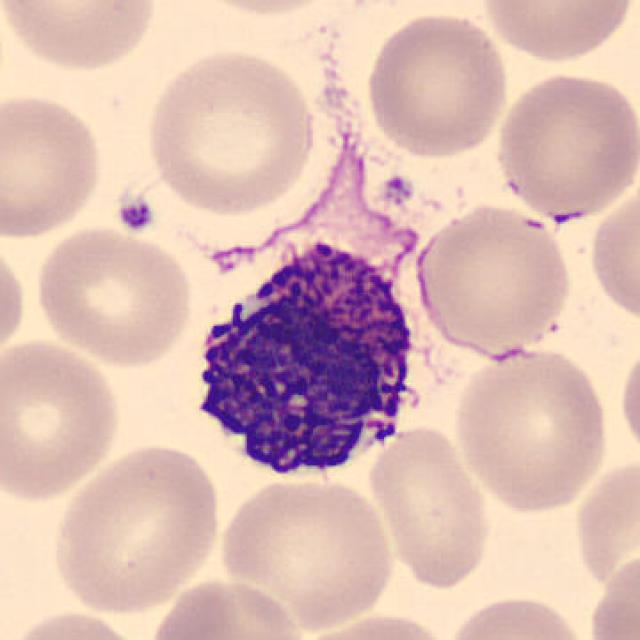Basophil: (176, 226, 453, 494)
Platelets: (114, 196, 158, 234)
RBC: (46, 439, 226, 617), (140, 44, 320, 217), (213, 473, 400, 631), (450, 342, 613, 515), (411, 199, 576, 356), (31, 222, 198, 369), (491, 67, 638, 224), (363, 9, 512, 160), (364, 420, 494, 590), (0, 335, 126, 504), (0, 88, 107, 242), (0, 0, 162, 74), (146, 575, 313, 640), (476, 0, 638, 65), (570, 453, 640, 597), (586, 174, 640, 329), (441, 590, 594, 640), (583, 546, 640, 640), (2, 606, 153, 640), (290, 610, 458, 640), (0, 235, 30, 363), (615, 338, 640, 466), (178, 0, 350, 18)
